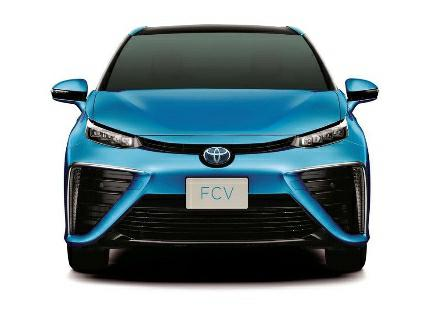丰田-FCV: (41, 15, 393, 291)
